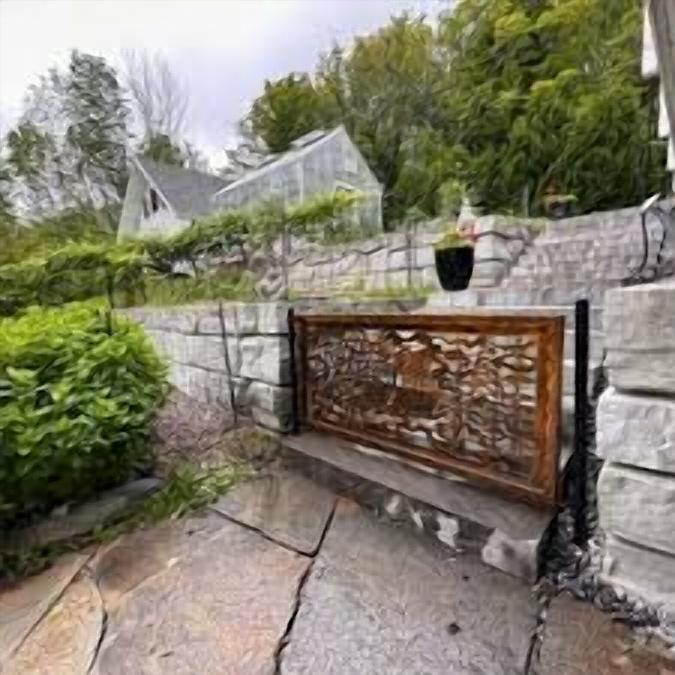Building: (97, 124, 384, 305)
Gate: (289, 313, 566, 513)
